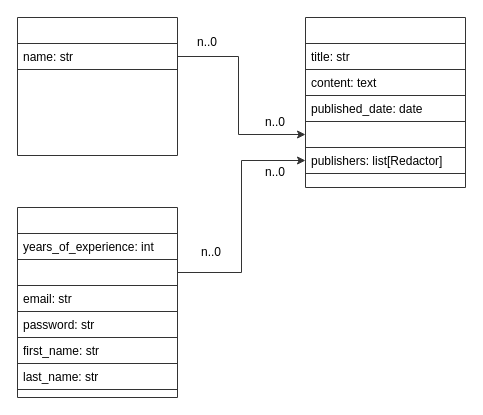
Image size: 483x415. Some labels were removed from this diagram. The box of each missing label's shape, as (x1, y1, x2, y2) in pixels:
Newspaper: (304, 16, 466, 188)
Redactor(AbstractUser): (16, 206, 178, 398)
Topic: (16, 16, 178, 156)
topic: Topic: (304, 120, 466, 148)
username: str: (16, 258, 178, 286)
